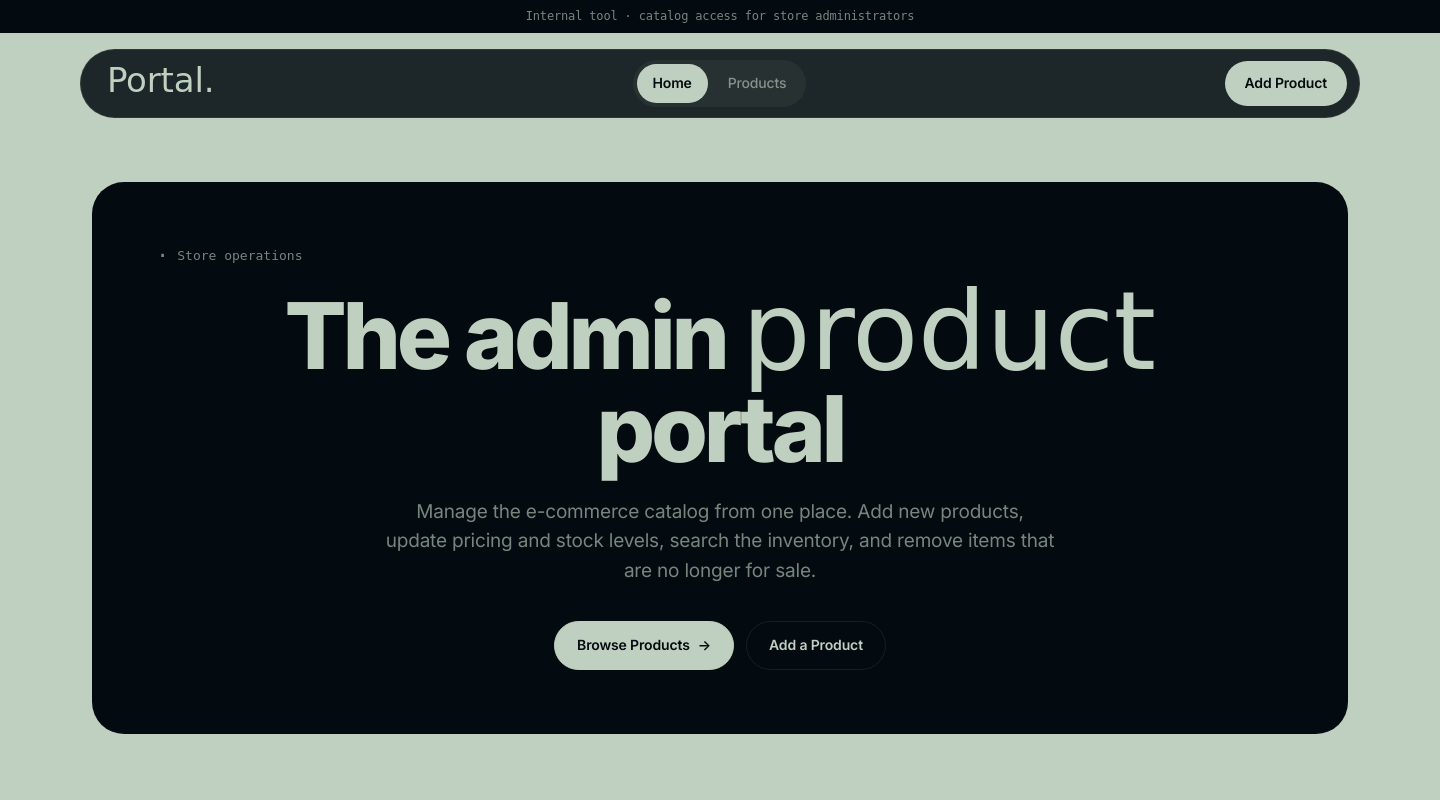
App client-side routing › navigates to the products page when the nav link is clicked
Click the link "Products" at coordinates (757, 83), box [728,74,786,91]
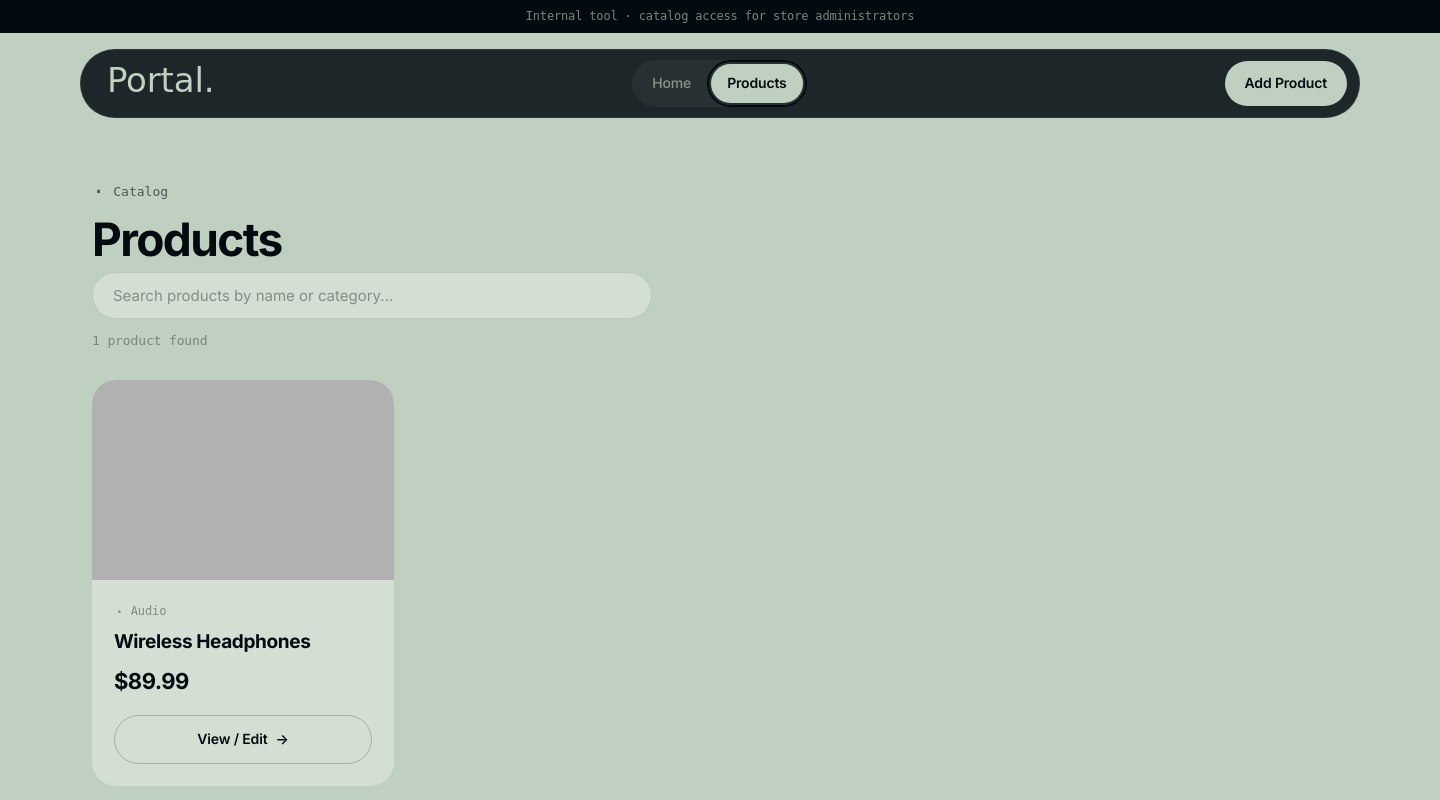
Expected: the heading "Wireless Headphones" is shown, [114,630,310,653]
